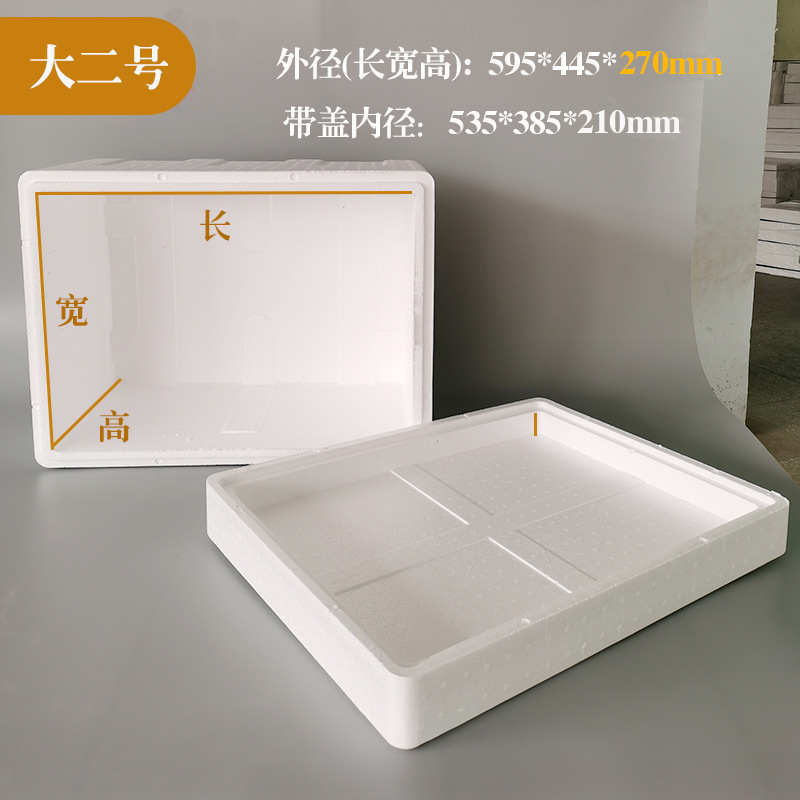泡沫箱: (19, 164, 786, 748)
